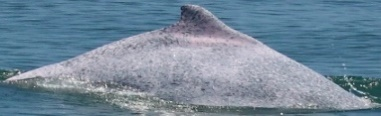fin: (5, 3, 379, 114)
